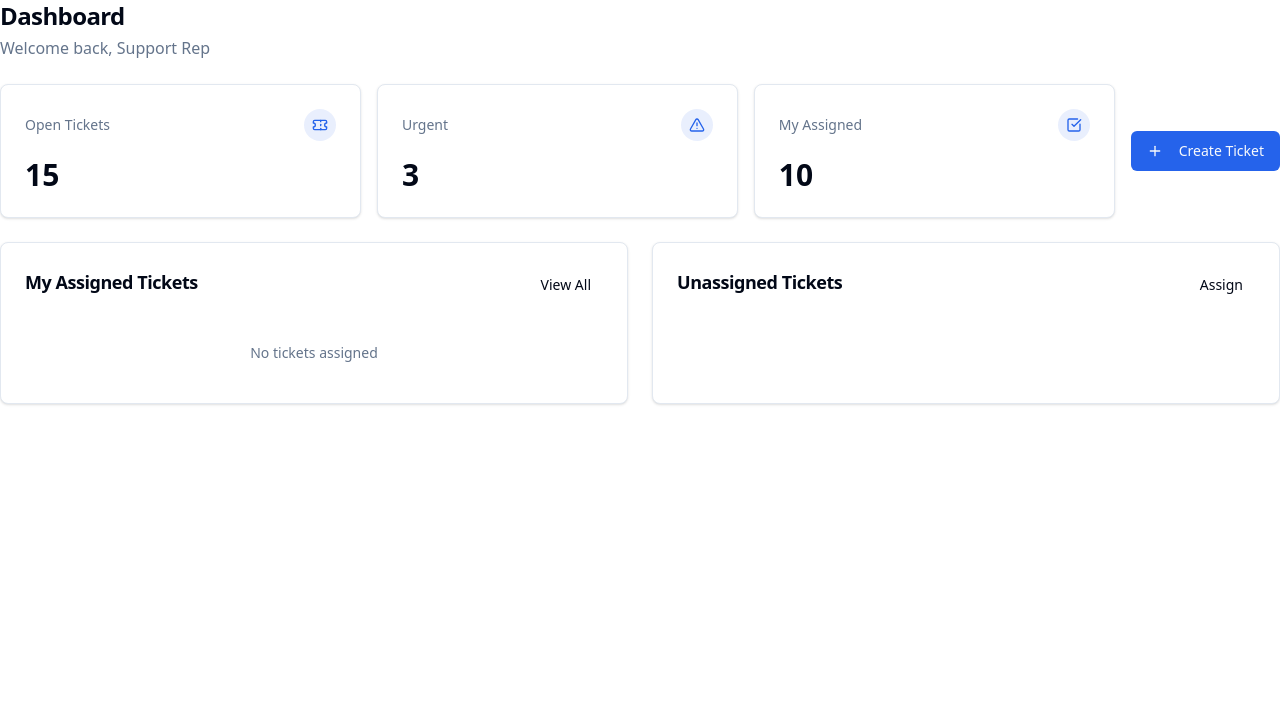
Dashboard › Ticket Creation Feature › Support Dashboard - Create Ticket Button › should open ticket form dialog when Create Ticket button is clicked
The image size is (1280, 720).
Click the button "Create Ticket" at (1205, 151), box [1131,131,1279,171]
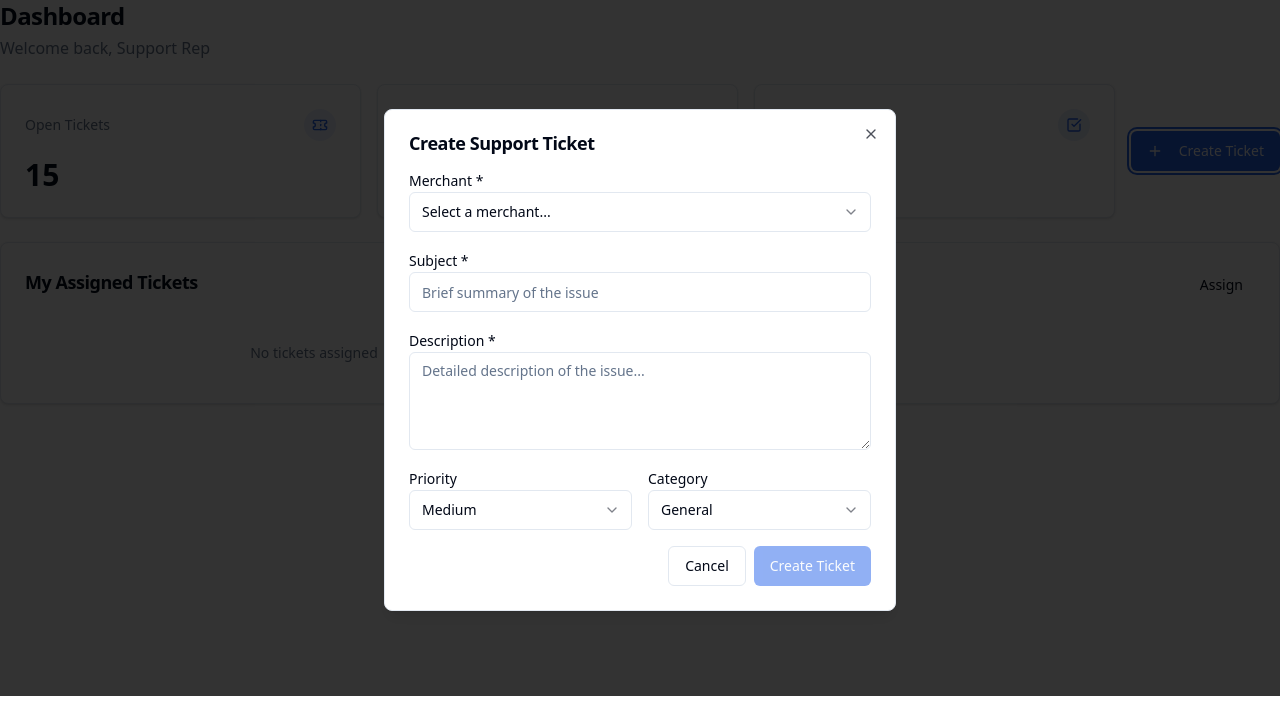
Expected: the heading "Create Support Ticket" is shown, [409,131,595,155]
Expected: the field labelled "Subject *" is shown, [409,272,871,312]
Expected: the text box labelled "Description *" is shown, [409,352,871,450]
